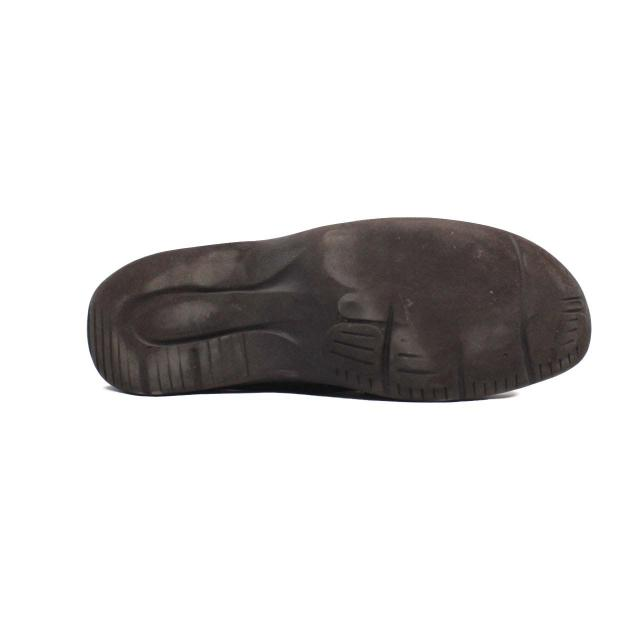outersole: (88, 219, 592, 401)
